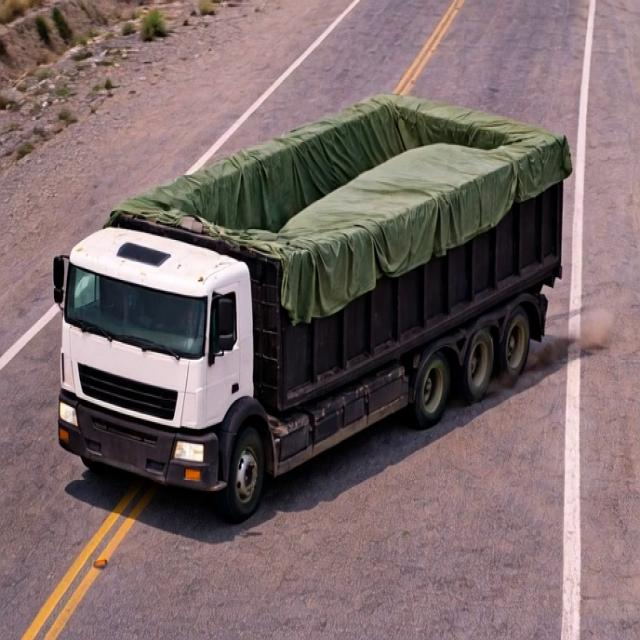trailer: (112, 91, 563, 262)
truck: (62, 54, 575, 511)
